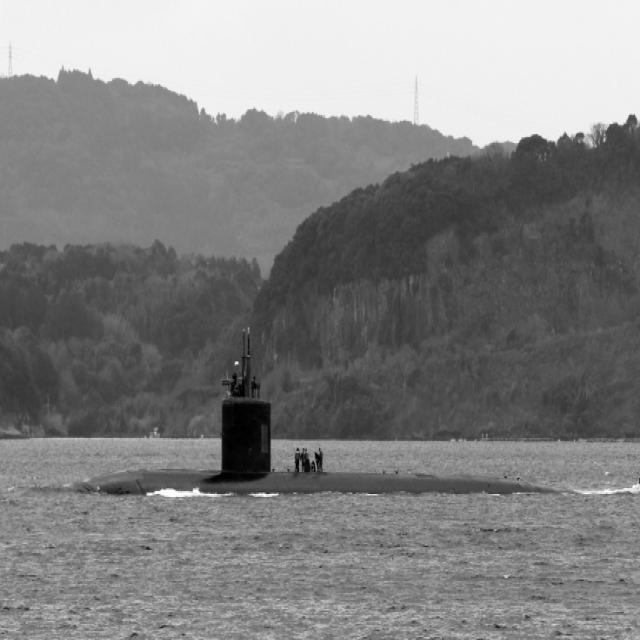submarine: (89, 321, 640, 493)
